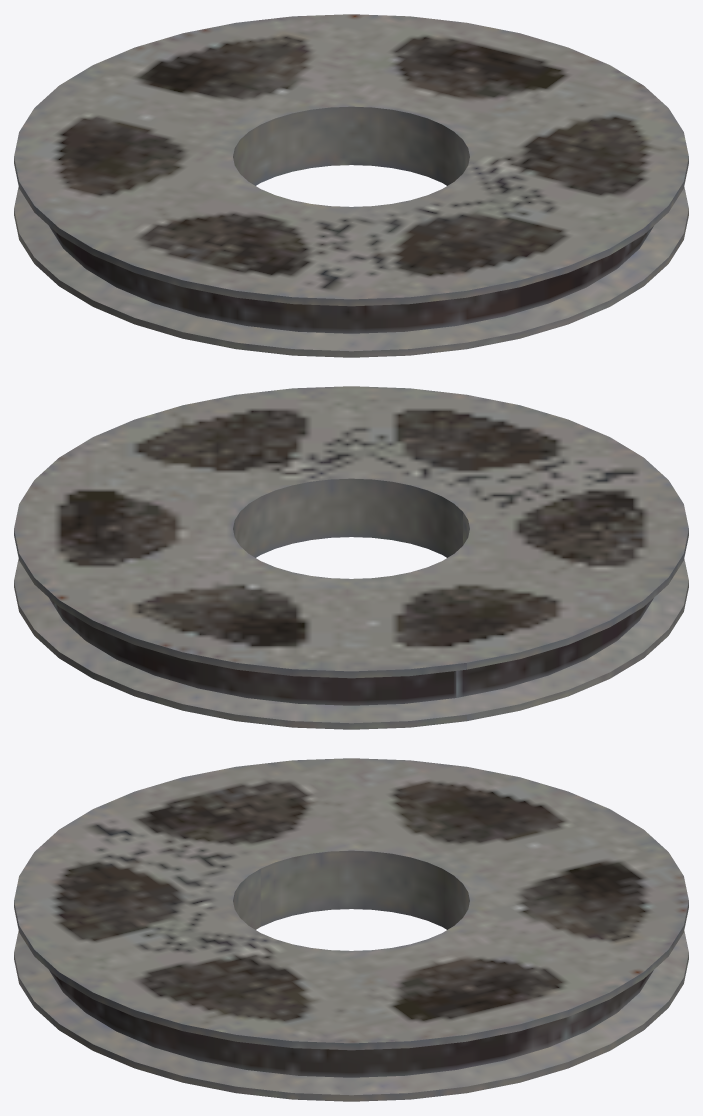
File: 021_FilmReel.fbx
The picture shows the model from 3 angles, top to bottom: view 1: azimuth 30°, elevation 25°; view 2: azimuth 150°, elevation 25°; view 3: azimuth 270°, elevation 25°; orthographic projection.
Parts seen in each view (by area): view 1: LOD_1_Group_0_Sub_1__sm36_021_FilmReel01A_A_Mat; view 2: LOD_1_Group_0_Sub_1__sm36_021_FilmReel01A_A_Mat; view 3: LOD_1_Group_0_Sub_1__sm36_021_FilmReel01A_A_Mat.
Part boxes in pixels (x1,y1,x2,y2): LOD_1_Group_0_Sub_1__sm36_021_FilmReel01A_A_Mat: (14, 14, 688, 357); LOD_1_Group_0_Sub_1__sm36_021_FilmReel01A_A_Mat: (14, 386, 688, 729); LOD_1_Group_0_Sub_1__sm36_021_FilmReel01A_A_Mat: (14, 758, 688, 1101).
Size of the model in its own units: 0.2899 by 0.0277 by 0.2899.
